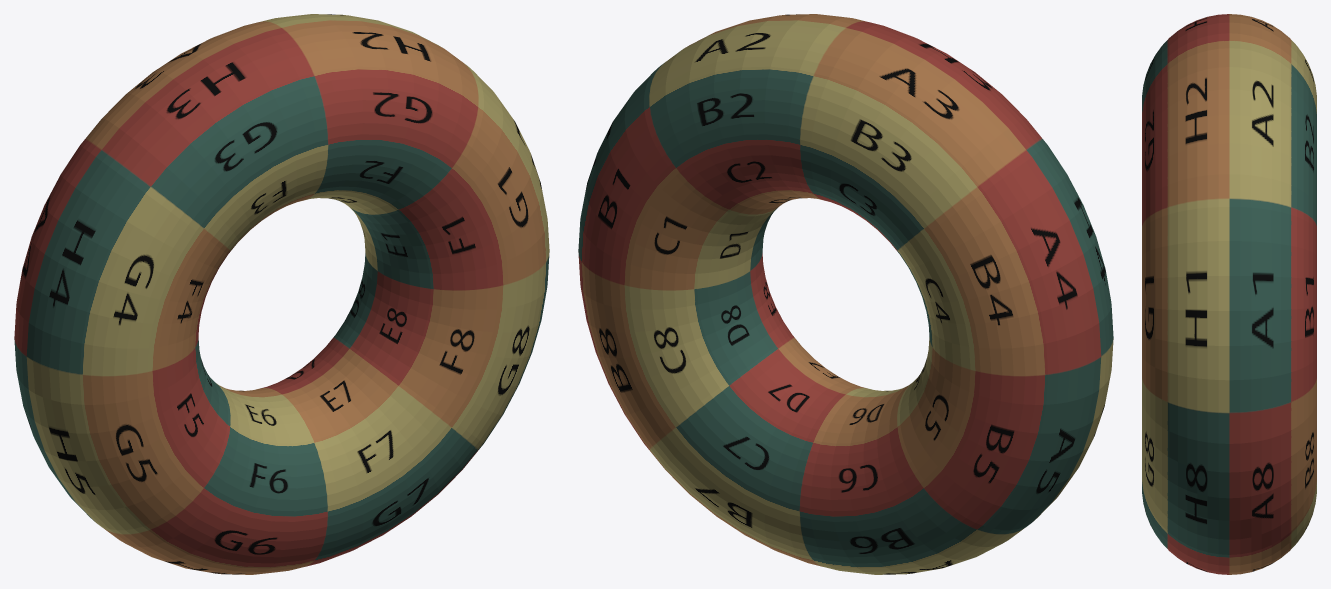
The model's file is texture_torus_R18_r30.glb.
The picture shows the model from 3 angles, left to right: view 1: azimuth 30°, elevation 25°; view 2: azimuth 150°, elevation 25°; view 3: azimuth 270°, elevation 25°; orthographic projection. The views are drawn at different scales.
Visible parts, largest first — view 1: world; view 2: world; view 3: world.
Boxes of the visible parts, x1=… form: world: x1=14, y1=14, x2=549, y2=574; world: x1=578, y1=14, x2=1113, y2=574; world: x1=1142, y1=14, x2=1316, y2=574.
Bounding box in the file's own units: 32 × 31.94 × 9.98.
Materials: 1 (1 with a texture image).
